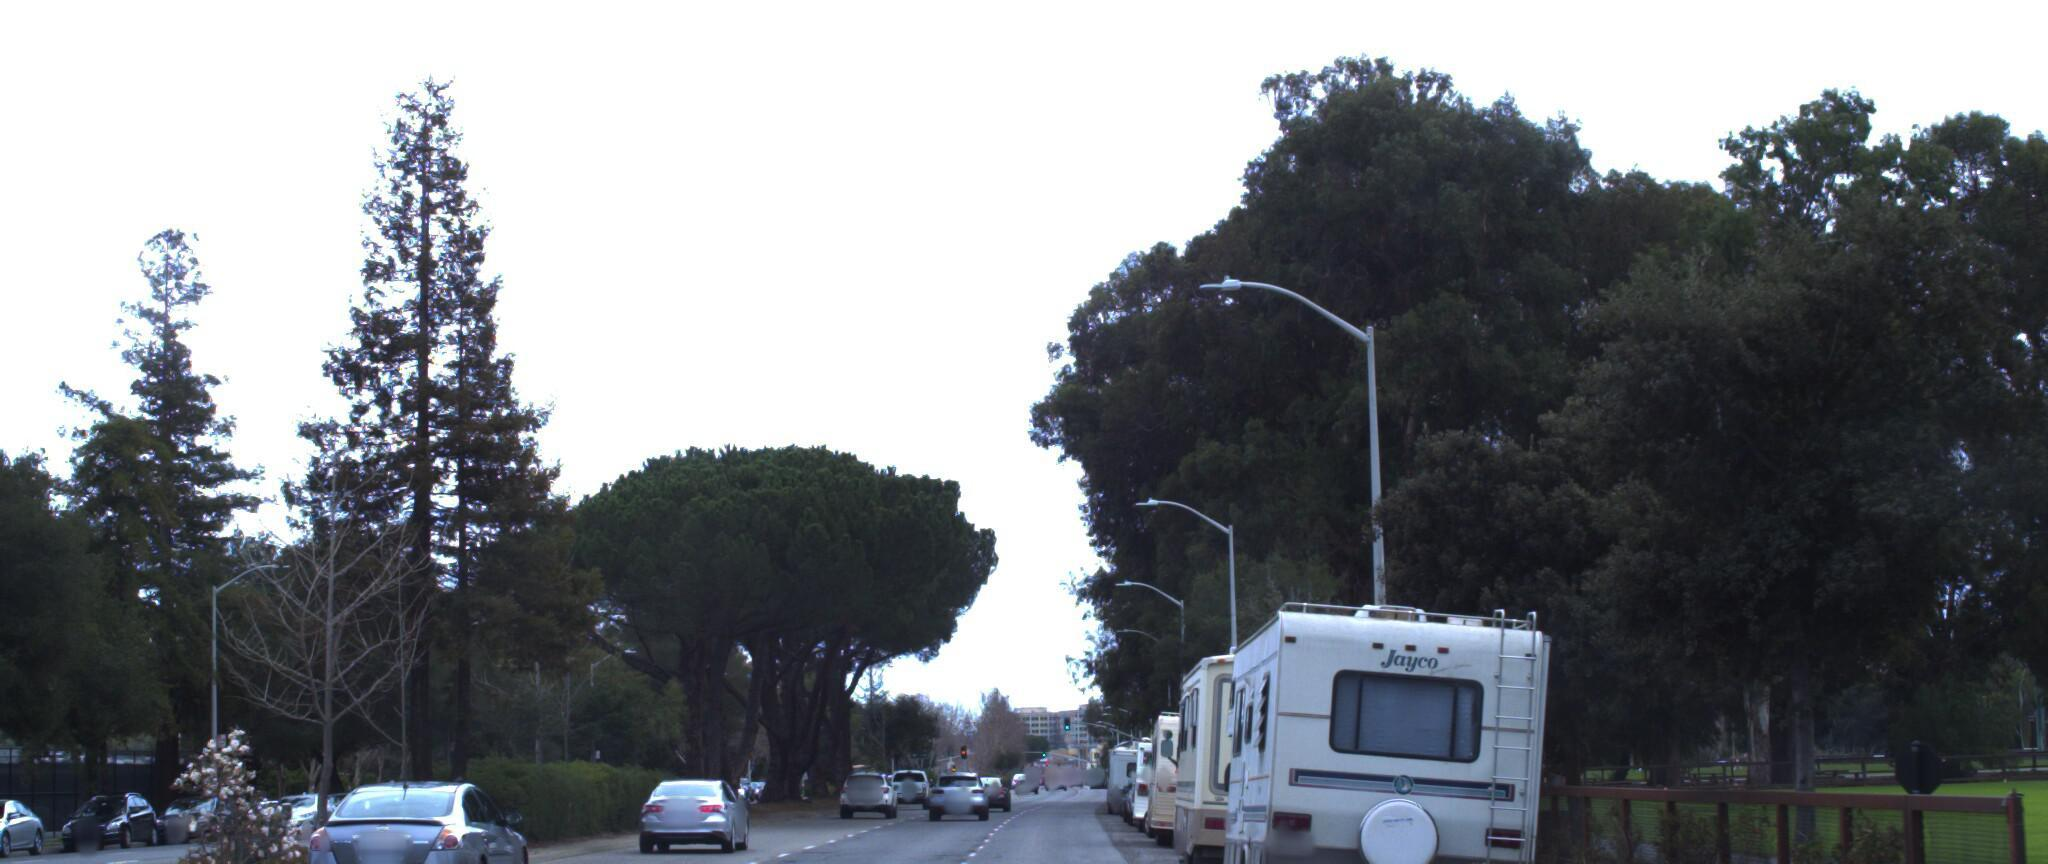car: (294, 761, 532, 864), (630, 758, 748, 837)
other_vehicle: (1198, 581, 1570, 864), (1161, 611, 1388, 864), (1138, 687, 1273, 831)
